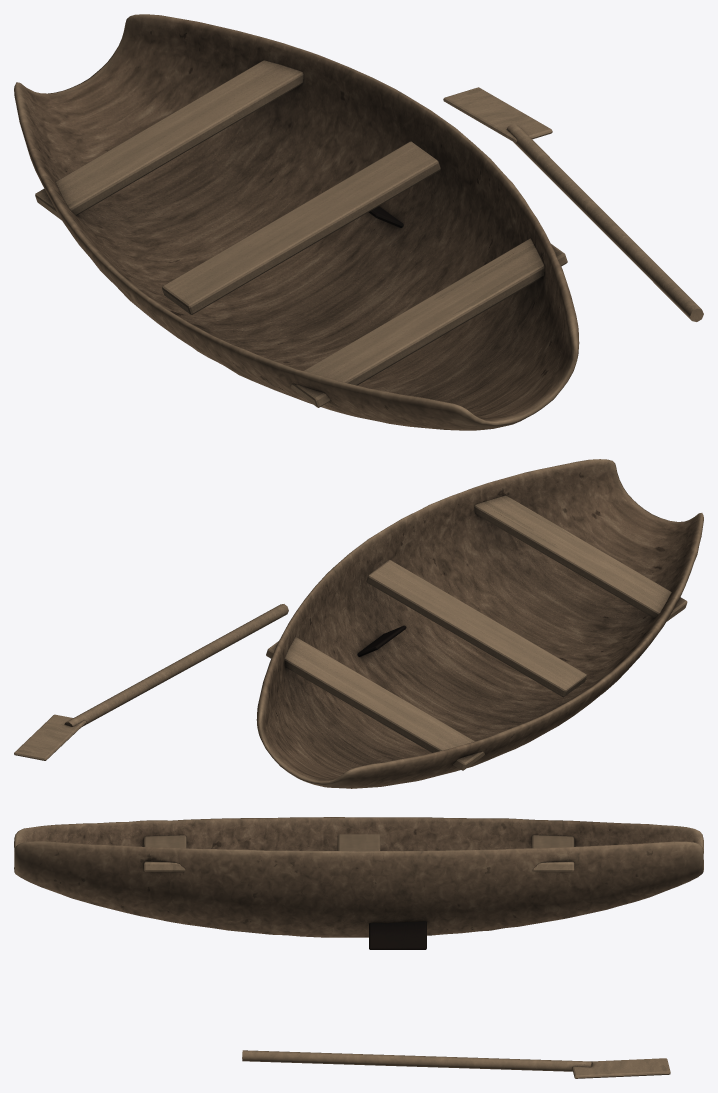
The model's file is cenario_barco_encalhado.glb.
The picture shows the model from 3 angles, top to bottom: view 1: azimuth 30°, elevation 25°; view 2: azimuth 150°, elevation 25°; view 3: azimuth 270°, elevation 25°; orthographic projection. The views are drawn at different scales.
Visible parts, largest first — view 1: cenario_barco_encalhado_tronco; view 2: cenario_barco_encalhado_tronco; view 3: cenario_barco_encalhado_tronco.
Part boxes in pixels (left/top/right/bottom): cenario_barco_encalhado_tronco: left=14, top=14, right=703, bottom=430; cenario_barco_encalhado_tronco: left=14, top=459, right=703, bottom=788; cenario_barco_encalhado_tronco: left=14, top=817, right=703, bottom=1078.
Bounding box in the file's own units: 2.51 × 0.8219 × 3.56.
1 material, 1 textured.
